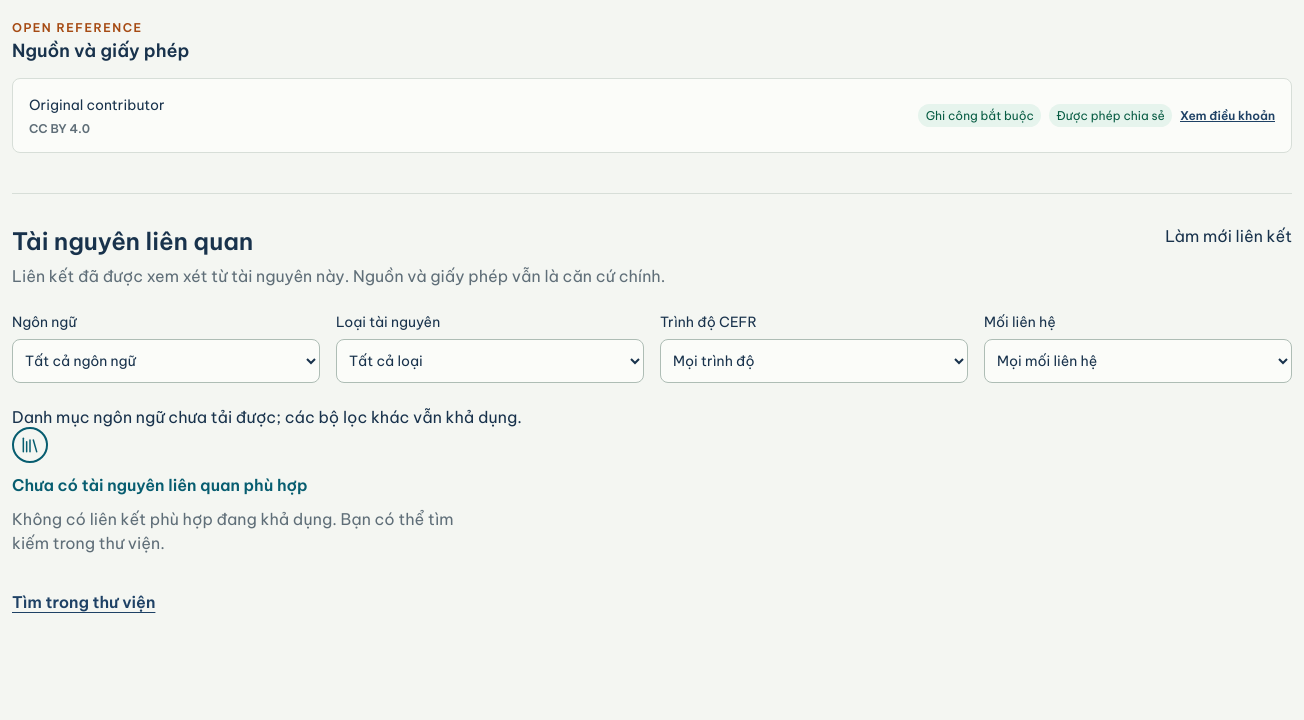
Test case: preserves related filters through same-anchor focus revalidation while withholding stale projections
This screenshot has width=1304, height=720.
(page scrolled)
Select "B1" in the dropdown labelled "Trình độ CEFR" at (814, 361), box 660,339 -> 968,383
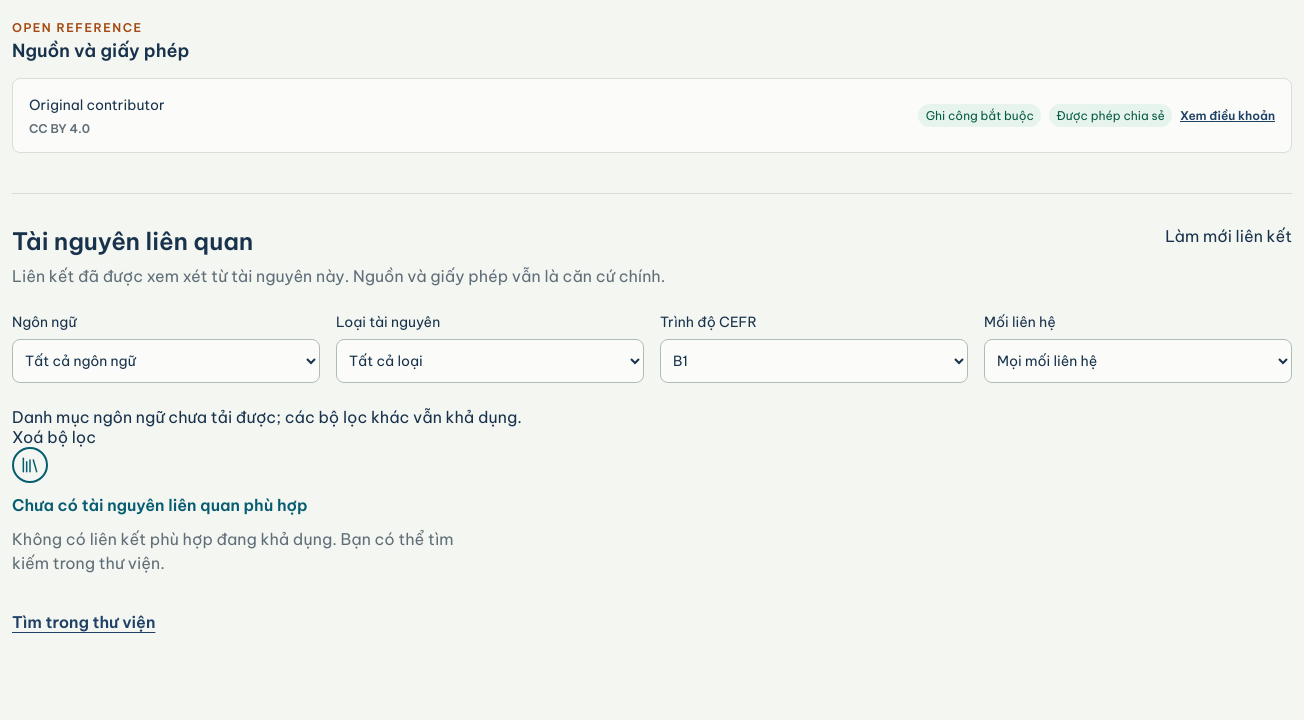
Expected: the dropdown labelled "Trình độ CEFR" shows "B1", 660,339 -> 968,383
